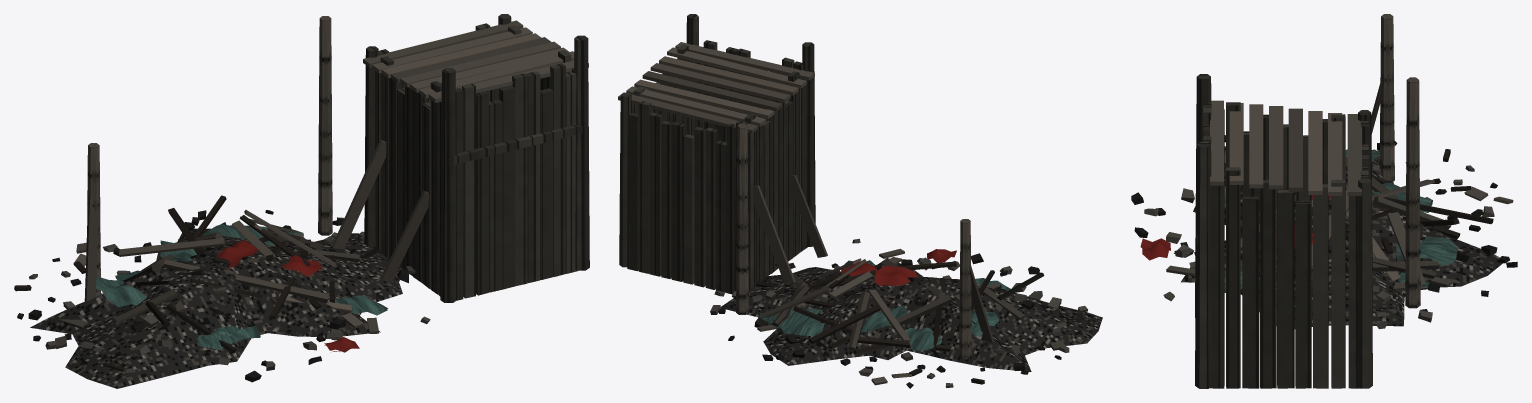
File: TarHut02a.glb
3 views of the same model, side by side, from view 1: azimuth 30°, elevation 25°; view 2: azimuth 150°, elevation 25°; view 3: azimuth 270°, elevation 25° (orthographic). The views are drawn at different scales.
Visible parts, largest first — view 1: TarHut02a; view 2: TarHut02a; view 3: TarHut02a.
Part boxes in pixels (bbox=[...]): TarHut02a: bbox=[14, 14, 589, 388]; TarHut02a: bbox=[618, 14, 1102, 388]; TarHut02a: bbox=[1131, 14, 1517, 388].
Bounding box in the file's own units: 9.36 × 4.22 × 6.01.
27 materials, 4 textured.
